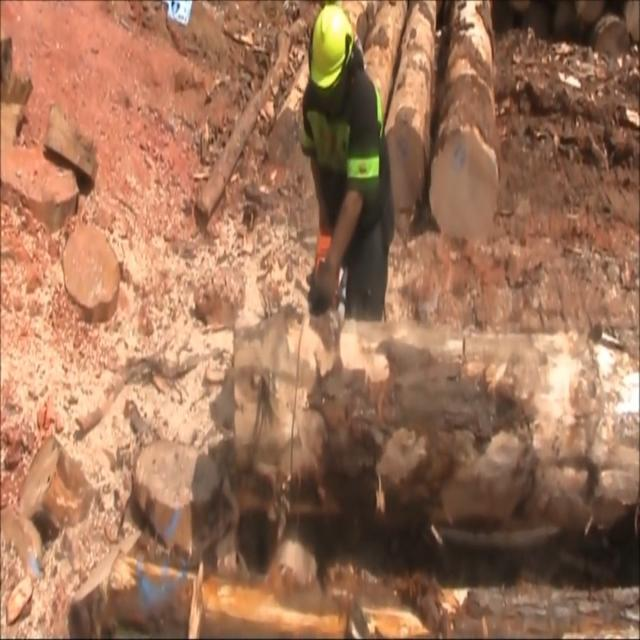Chainsaw: (278, 204, 375, 370)
